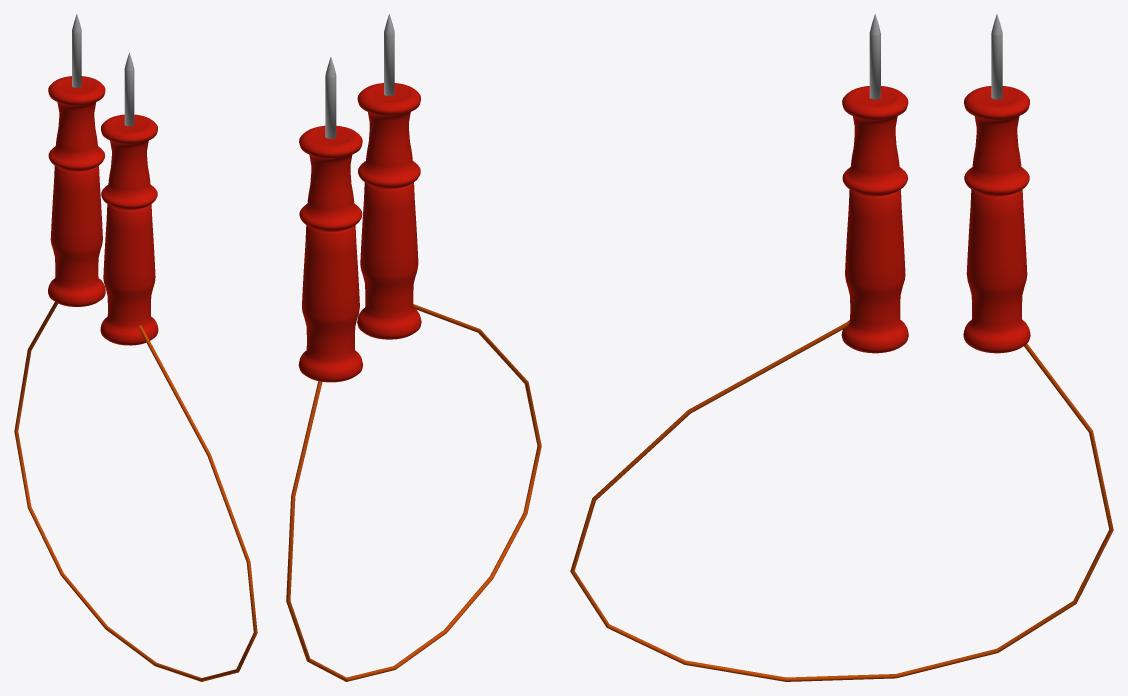
Rendered from Naskalit.fbx.
3 renders of one model, left to right at view 1: azimuth 30°, elevation 25°; view 2: azimuth 150°, elevation 25°; view 3: azimuth 270°, elevation 25°, orthographic. The views are drawn at different scales.
Visible parts, largest first — view 1: Naskali, Naskali.001, Wire, Piikki, Piikki.001; view 2: Naskali.001, Naskali, Wire, Piikki.001, Piikki; view 3: Naskali, Naskali.001, Wire, Piikki, Piikki.001.
Part boxes in pixels (box(x1,y1,x2,y2)): Naskali: box(48, 76, 105, 306); Naskali.001: box(100, 114, 158, 345); Wire: box(14, 302, 257, 681); Piikki: box(124, 53, 134, 126); Piikki.001: box(72, 14, 81, 87); Naskali.001: box(357, 83, 421, 339); Naskali: box(298, 125, 362, 382); Wire: box(286, 304, 541, 681); Piikki.001: box(325, 57, 336, 138); Piikki: box(384, 14, 394, 96); Naskali: box(963, 86, 1030, 353); Naskali.001: box(841, 86, 908, 353); Wire: box(570, 320, 1113, 681); Piikki: box(869, 14, 880, 99); Piikki.001: box(991, 14, 1002, 99).
Bounding box in the file's own units: 2.97 × 32.9 × 24.02.
